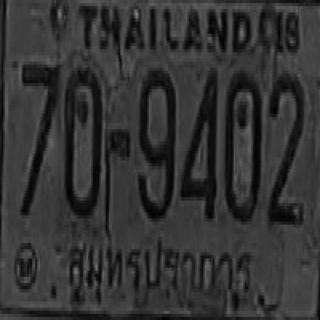N00: (63, 65, 102, 218), (224, 71, 261, 222)
N02: (266, 72, 303, 223)
N04: (180, 66, 217, 220)
N07: (20, 62, 60, 215)
N09: (138, 66, 174, 220)
P57: (70, 230, 257, 304)
